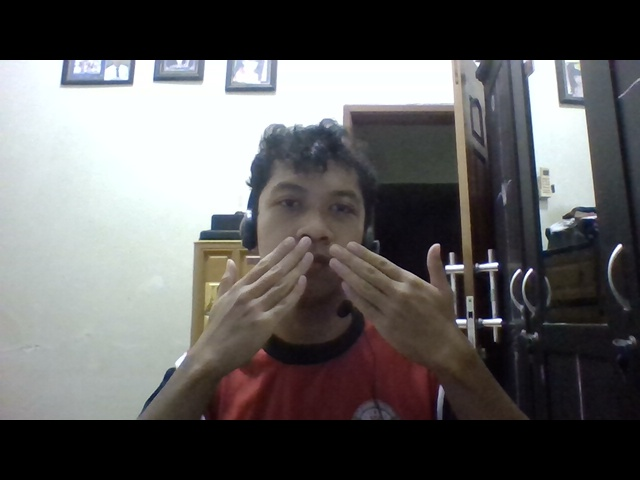thankyou: (179, 219, 470, 388)
